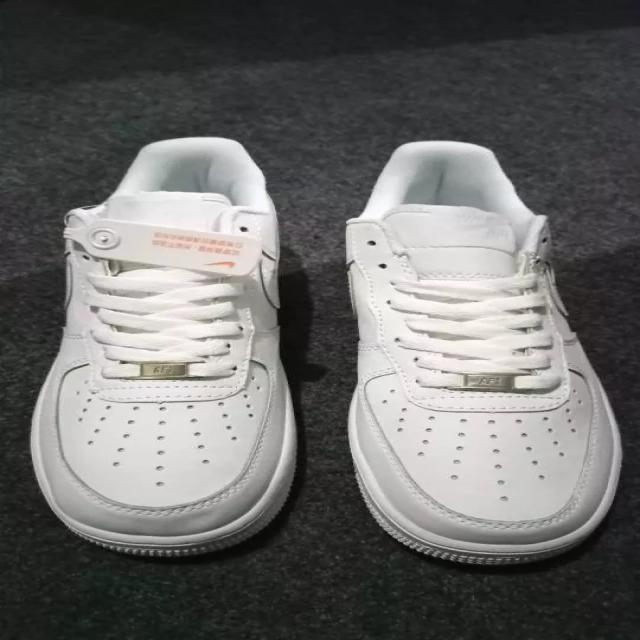nike_fake_airforce: (338, 136, 628, 566), (26, 136, 302, 564)
